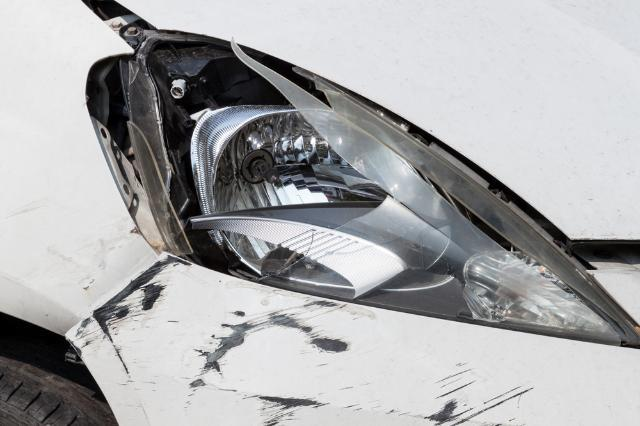lamp broken: (134, 32, 640, 351)
scratch: (66, 254, 536, 426)
